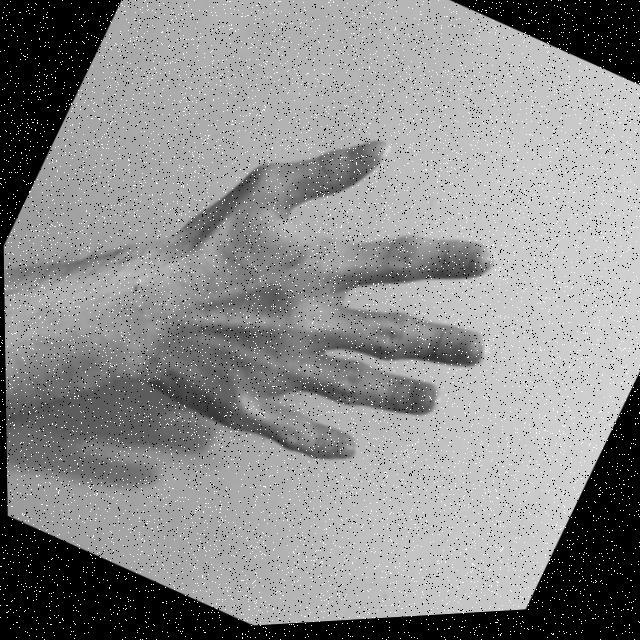no-gloves: (110, 71, 558, 532)
